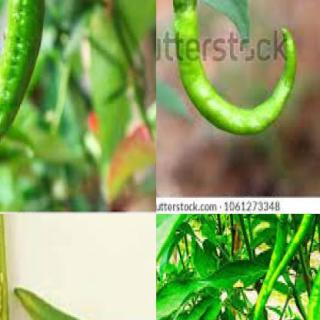green_chilli: (173, 0, 299, 141), (0, 0, 48, 185), (0, 0, 37, 158), (262, 214, 319, 308), (12, 286, 156, 320), (249, 214, 292, 319), (306, 216, 320, 319)
